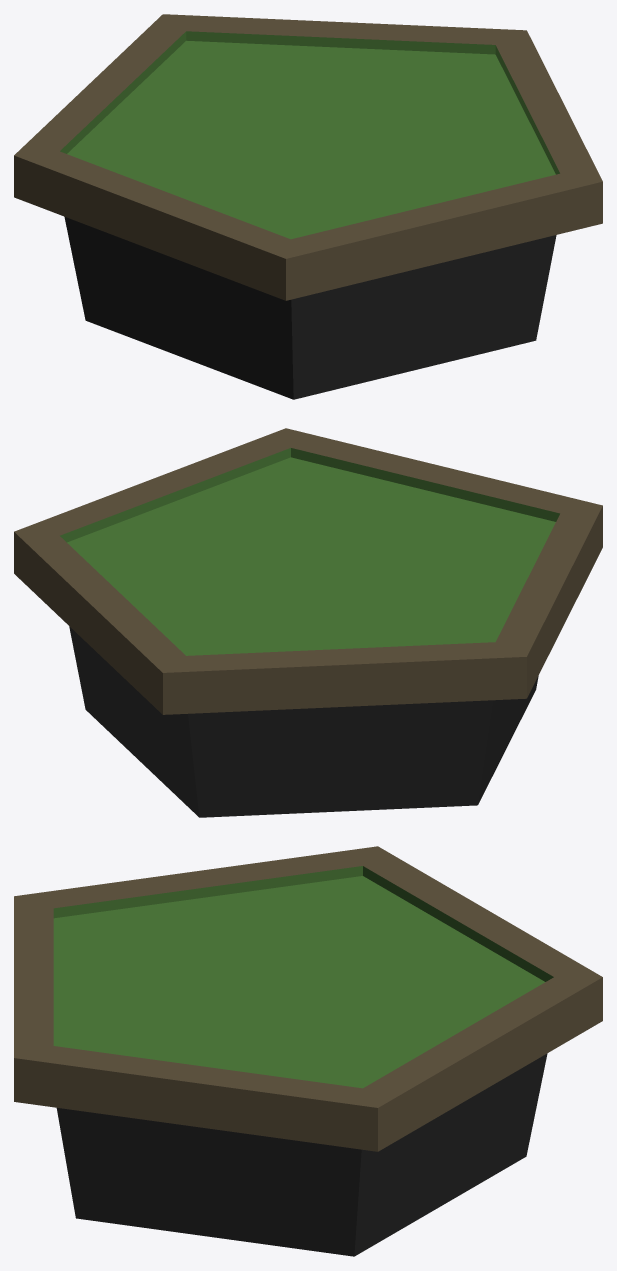
The model's file is MesaPenta.glb.
The picture shows the model from 3 angles, top to bottom: view 1: azimuth 30°, elevation 25°; view 2: azimuth 150°, elevation 25°; view 3: azimuth 270°, elevation 25°; orthographic projection. The views are drawn at different scales.
Parts seen in each view (by area): view 1: Cylinder; view 2: Cylinder; view 3: Cylinder.
Boxes of the visible parts, box(x1,y1,x2,y2) form: Cylinder: box(14, 14, 602, 399); Cylinder: box(14, 428, 602, 817); Cylinder: box(14, 846, 602, 1256).
Size of the model in its own units: 2.82 by 0.9 by 2.68.
